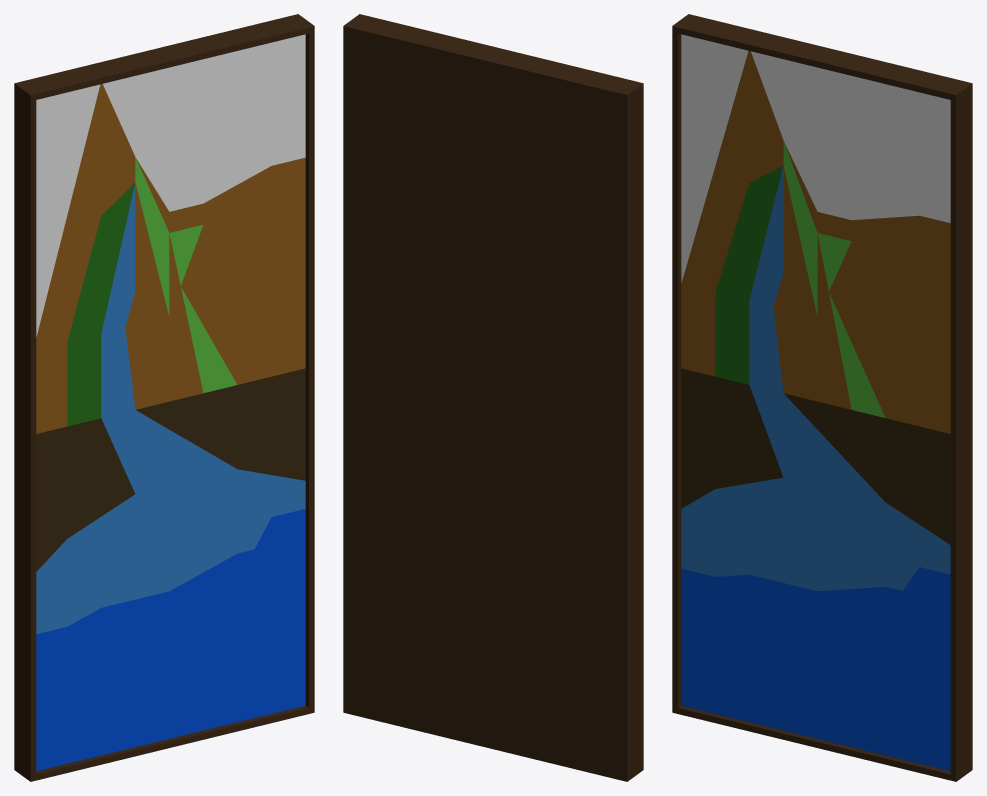
Rendered from Tablo1.fbx.
3 renders of one model, left to right at view 1: azimuth 30°, elevation 25°; view 2: azimuth 150°, elevation 25°; view 3: azimuth 330°, elevation 25°, orthographic.
Parts seen in each view (by area): view 1: Cube; view 2: Cube; view 3: Cube.
Boxes of the visible parts, x1,y1,x2,y2 form: Cube: (14,14,314,781); Cube: (343,14,643,781); Cube: (672,14,972,781).
Bounding box in the file's own units: 600 × 1386 × 60.
